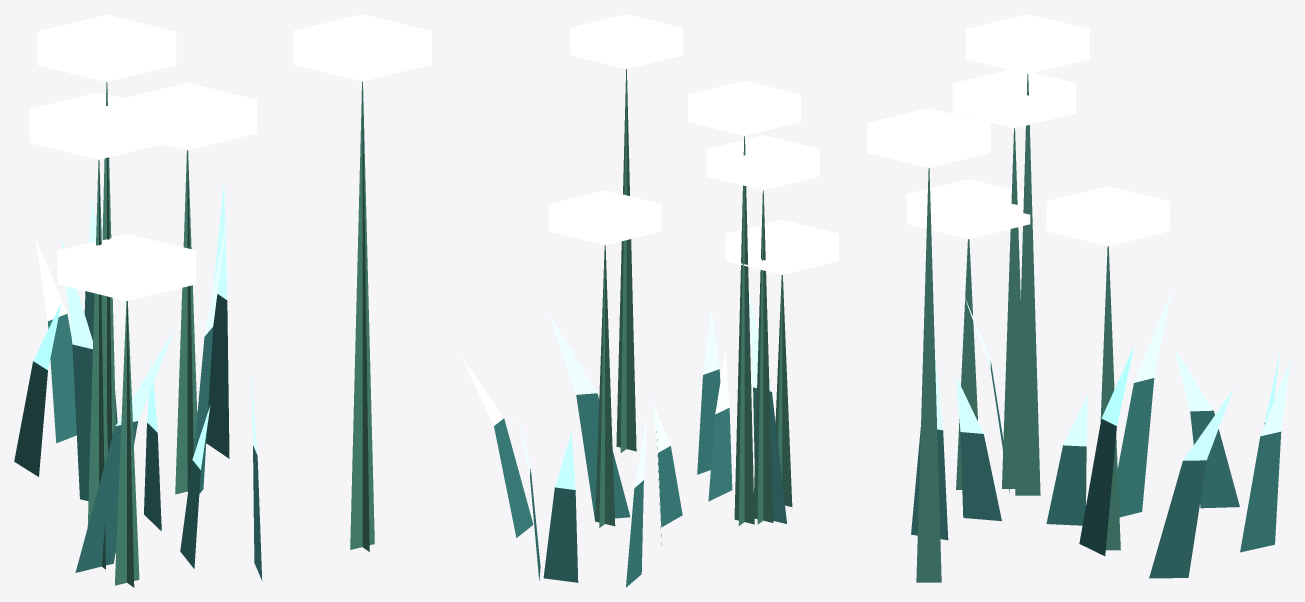
Rendered from flower_pink.glb.
3 renders of one model, left to right at view 1: azimuth 30°, elevation 25°; view 2: azimuth 150°, elevation 25°; view 3: azimuth 270°, elevation 25°, orthographic. The views are drawn at different scales.
Parts seen in each view (by area): view 1: flower_pink; view 2: flower_pink; view 3: flower_pink.
Boxes of the visible parts, x1=… form: flower_pink: x1=14, y1=14, x2=431, y2=587; flower_pink: x1=460, y1=14, x2=838, y2=587; flower_pink: x1=867, y1=14, x2=1290, y2=582.
Size of the model in its own units: 0.23 by 0.3245 by 0.2673.
